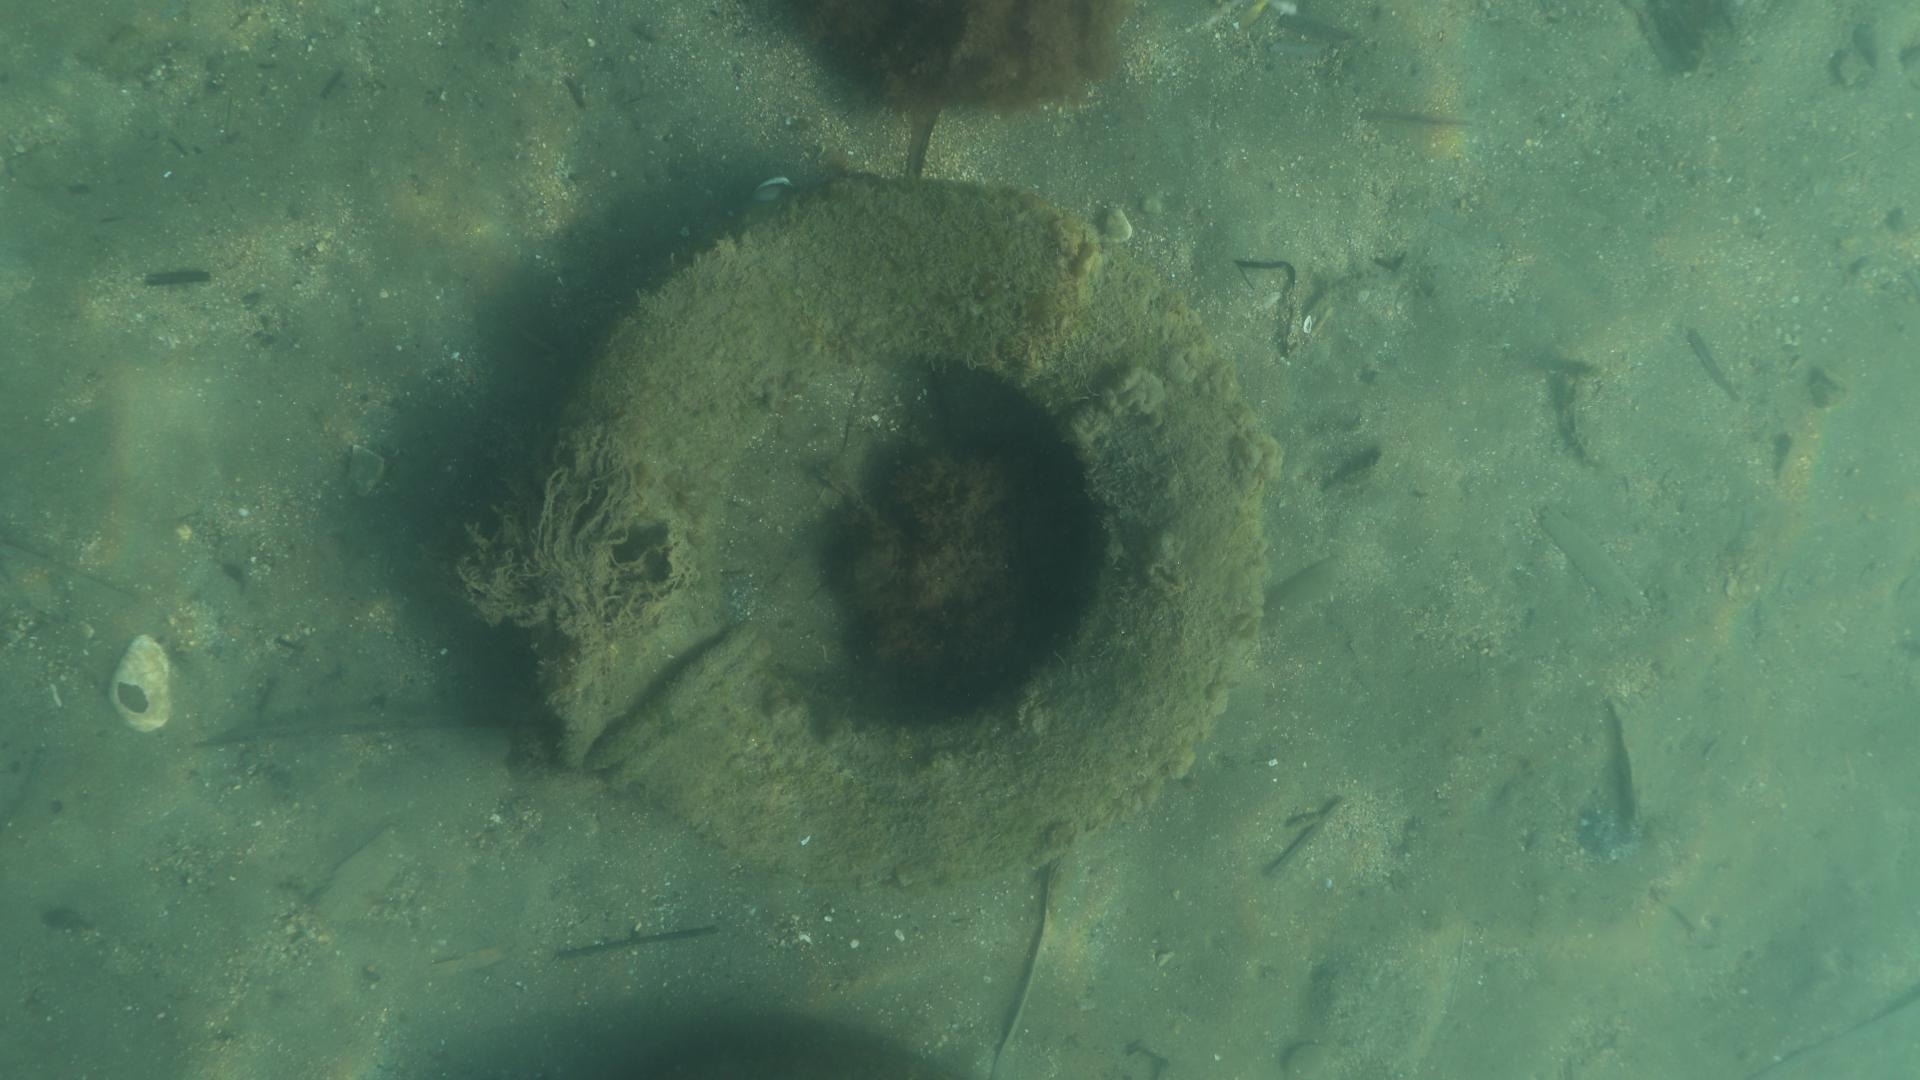tire: (525, 179, 1269, 886)
